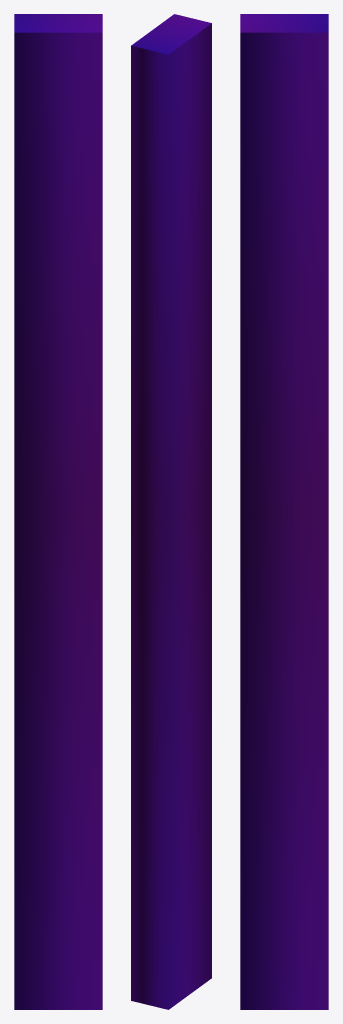
3 renders of one model, left to right at view 1: azimuth 90°, elevation 25°; view 2: azimuth 150°, elevation 25°; view 3: azimuth 270°, elevation 25°, orthographic. The views are drawn at different scales.
Visible parts, largest first — view 1: part; view 2: part; view 3: part.
Part boxes in pixels (box(x1,y1,x2,y2)): part: box(14, 14, 102, 1009); part: box(131, 14, 211, 1009); part: box(240, 14, 328, 1009).
Size of the model in its own units: 387 by 9417 by 774.
